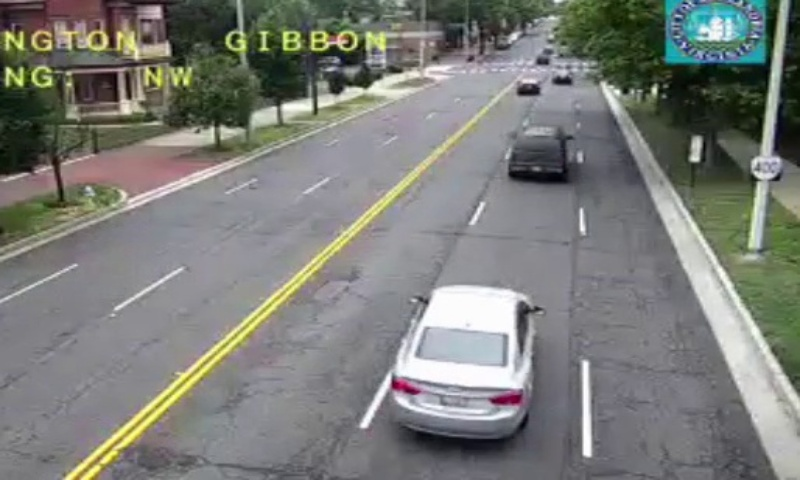car: (392, 283, 538, 440), (508, 126, 566, 176)
